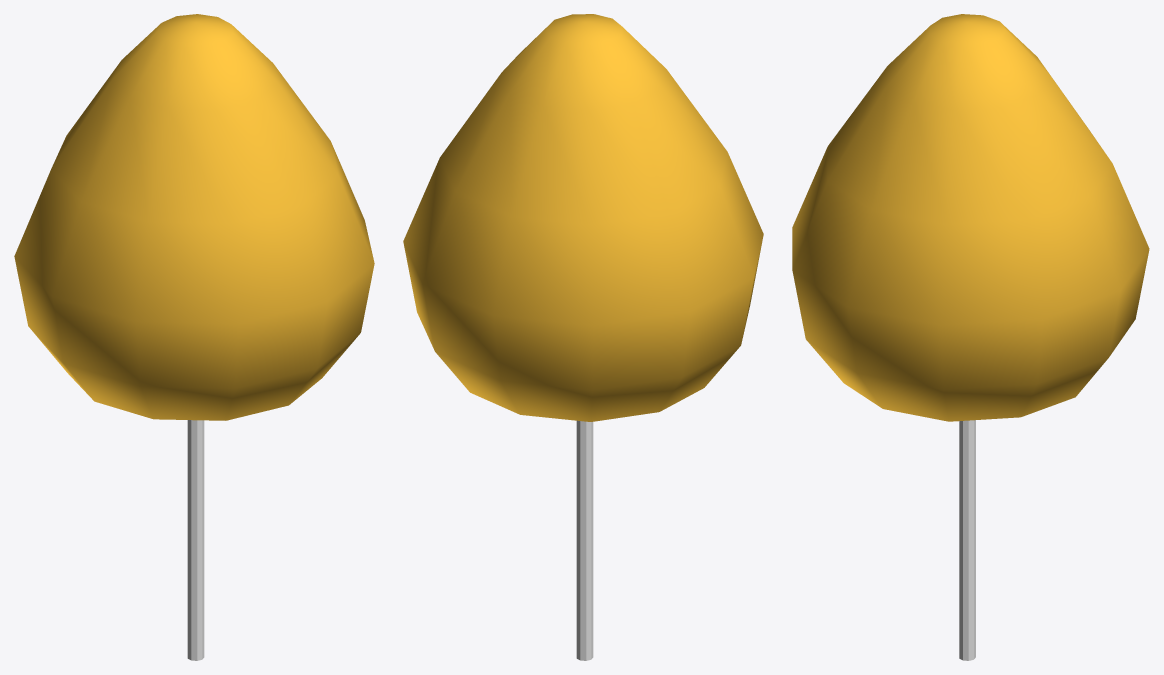
File: 6_YellowTree.fbx
The picture shows the model from 3 angles, left to right: view 1: azimuth 30°, elevation 25°; view 2: azimuth 150°, elevation 25°; view 3: azimuth 270°, elevation 25°; orthographic projection.
Parts seen in each view (by area): view 1: Sphere.056, Cylinder.053; view 2: Sphere.056, Cylinder.053; view 3: Sphere.056, Cylinder.053.
Part boxes in pixels (left/top/right/bottom): Sphere.056: left=14, top=14, right=374, bottom=420; Cylinder.053: left=187, top=420, right=204, bottom=660; Sphere.056: left=403, top=14, right=763, bottom=421; Cylinder.053: left=576, top=420, right=593, bottom=660; Sphere.056: left=792, top=14, right=1149, bottom=421; Cylinder.053: left=959, top=420, right=975, bottom=660.
Size of the model in its own units: 119 by 231 by 118.
